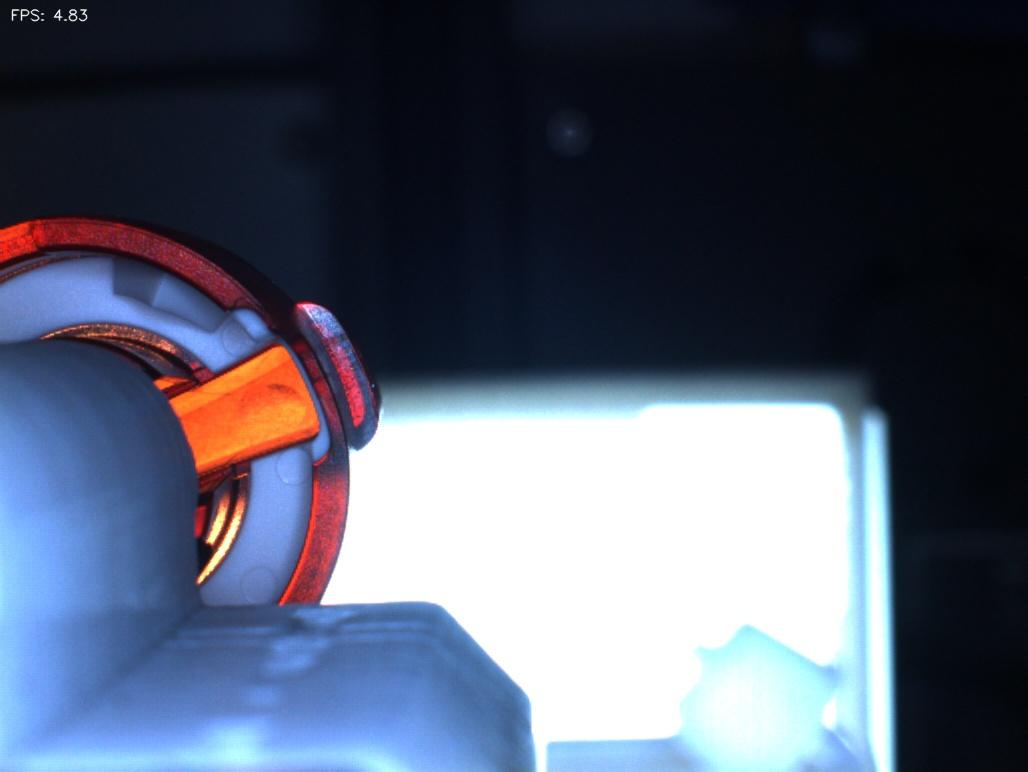Retassure: (209, 379, 315, 446)
